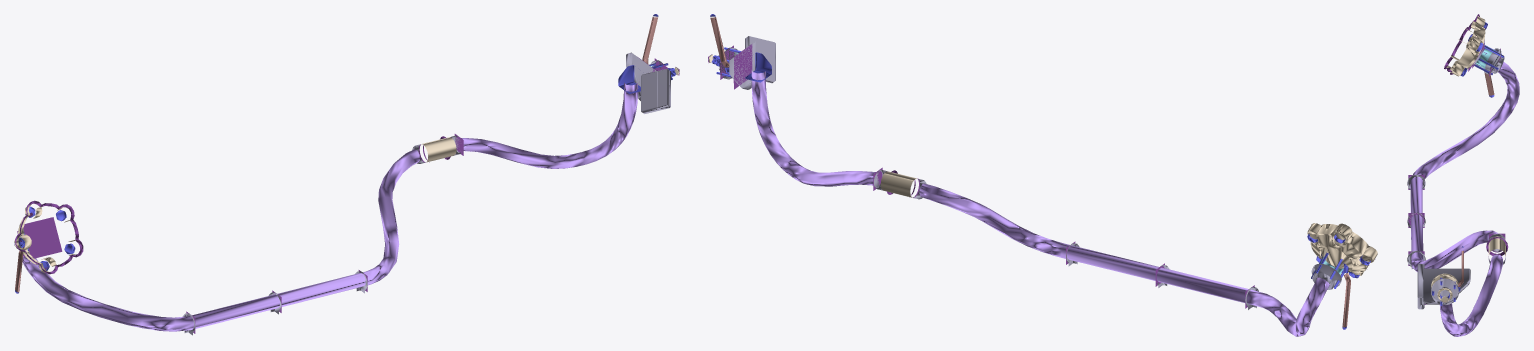
Rendered from crate_liquid_1_addon_a.glb.
3 renders of one model, left to right at view 1: azimuth 30°, elevation 25°; view 2: azimuth 150°, elevation 25°; view 3: azimuth 270°, elevation 25°, orthographic. The views are drawn at different scales.
Size of the model in its own units: 2.93 by 0.7794 by 0.482.
